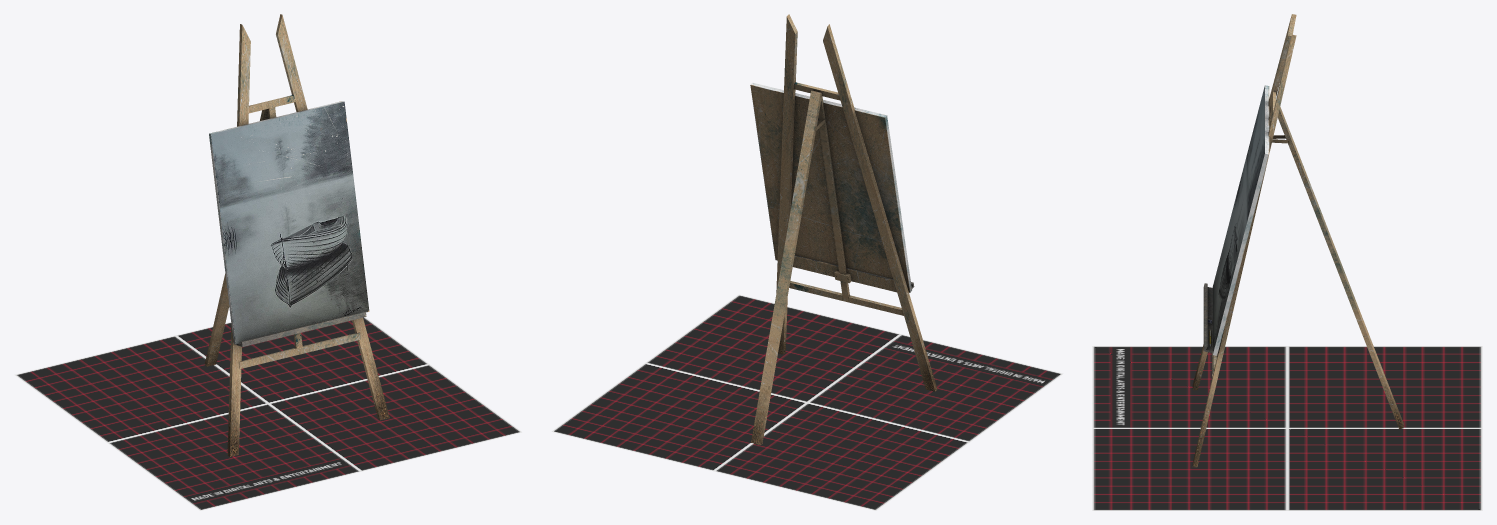
File: neweaselcanvas.glb
3 views of the same model, side by side, from view 1: azimuth 30°, elevation 25°; view 2: azimuth 150°, elevation 25°; view 3: azimuth 270°, elevation 25° (orthographic). The views are drawn at different scales.
Visible parts, largest first — view 1: floor_grid, Pencil; view 2: floor_grid, Pencil; view 3: floor_grid, Pencil.
Boxes of the visible parts, x1,y1,x2,y2 form: floor_grid: (14,317,521,510); Pencil: (204,14,389,456); floor_grid: (551,294,1063,510); Pencil: (750,14,937,444); floor_grid: (1092,346,1482,510); Pencil: (1192,14,1403,467).
Size of the model in its own units: 200 by 231 by 200.
Materials: 2 (2 with a texture image).
